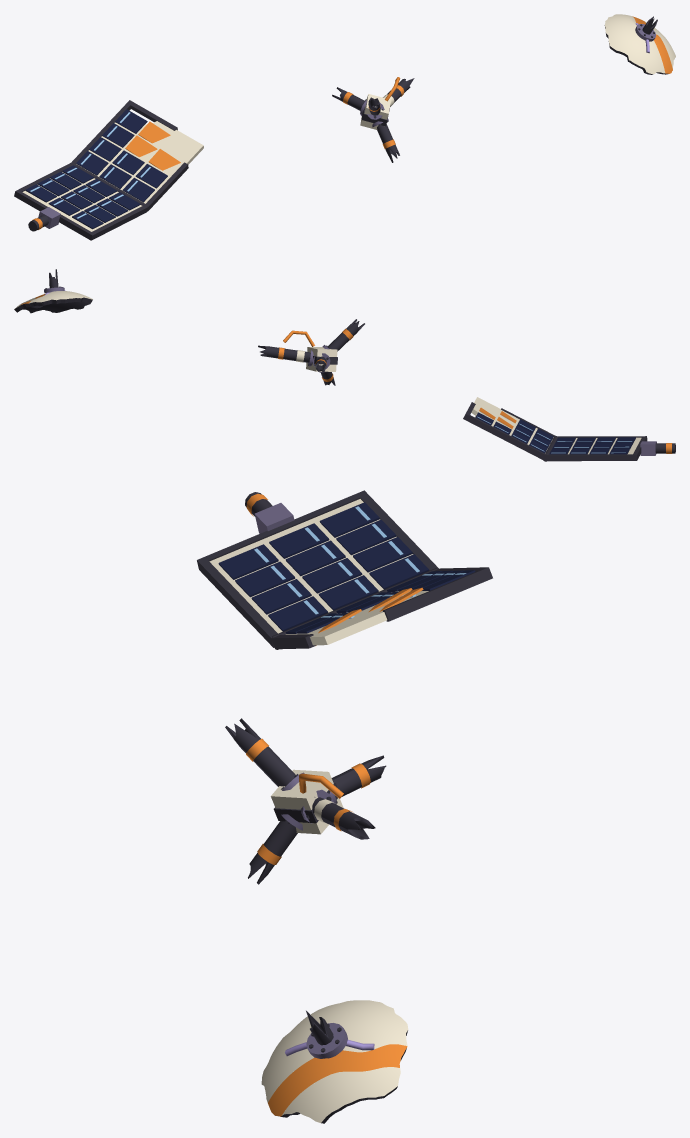
File: debris.glb
The picture shows the model from 3 angles, top to bottom: view 1: azimuth 30°, elevation 25°; view 2: azimuth 150°, elevation 25°; view 3: azimuth 270°, elevation 25°; orthographic projection. The views are drawn at different scales.
Visible parts, largest first — view 1: debris_1_Navy, debris_1_Graphite, debris_1_CreamHull, debris_3_CreamHull, debris_1_Orange, debris_2_Graphite, debris_1_PaleBlue, debris_2_CreamHull, debris_3_Orange, debris_3_Graphite; view 2: debris_1_Navy, debris_1_Graphite, debris_2_Graphite, debris_3_Graphite, debris_1_CreamHull, debris_2_CreamHull, debris_3_CreamHull, debris_1_PaleBlue, debris_2_Orange; view 3: debris_1_Navy, debris_3_CreamHull, debris_1_Graphite, debris_2_Graphite, debris_1_CreamHull, debris_3_Orange, debris_2_CreamHull, debris_2_Orange, debris_1_PaleBlue, debris_3_Graphite.
Boxes of the visible parts, left/top/right/bottom form: debris_1_Navy: left=25, top=109, right=167, bottom=229; debris_1_Graphite: left=14, top=100, right=188, bottom=240; debris_1_CreamHull: left=22, top=121, right=203, bottom=231; debris_3_CreamHull: left=605, top=14, right=675, bottom=74; debris_1_Orange: left=32, top=121, right=180, bottom=229; debris_2_Graphite: left=332, top=78, right=414, bottom=162; debris_1_PaleBlue: left=30, top=112, right=150, bottom=218; debris_2_CreamHull: left=360, top=94, right=394, bottom=129; debris_3_Orange: left=632, top=16, right=672, bottom=73; debris_3_Graphite: left=604, top=16, right=668, bottom=74; debris_1_Navy: left=475, top=412, right=635, bottom=454; debris_1_Graphite: left=463, top=402, right=675, bottom=461; debris_2_Graphite: left=258, top=319, right=364, bottom=385; debris_3_Graphite: left=14, top=269, right=92, bottom=313; debris_1_CreamHull: left=471, top=397, right=641, bottom=454; debris_2_CreamHull: left=296, top=347, right=337, bottom=371; debris_3_CreamHull: left=14, top=291, right=92, bottom=309; debris_1_PaleBlue: left=477, top=411, right=632, bottom=453; debris_2_Orange: left=278, top=328, right=353, bottom=381; debris_1_Navy: left=218, top=502, right=475, bottom=633; debris_3_CreamHull: left=261, top=1000, right=408, bottom=1122; debris_1_Graphite: left=197, top=490, right=492, bottom=649; debris_2_Graphite: left=225, top=718, right=386, bottom=884; debris_1_CreamHull: left=209, top=499, right=428, bottom=645; debris_3_Orange: left=268, top=1044, right=407, bottom=1116; debris_2_CreamHull: left=270, top=769, right=343, bottom=834; debris_2_Orange: left=246, top=738, right=370, bottom=864; debris_1_PaleBlue: left=254, top=506, right=466, bottom=618; debris_3_Graphite: left=275, top=1010, right=407, bottom=1123.
Bounding box in the file's own units: 4.89 × 0.5119 × 0.9939.
